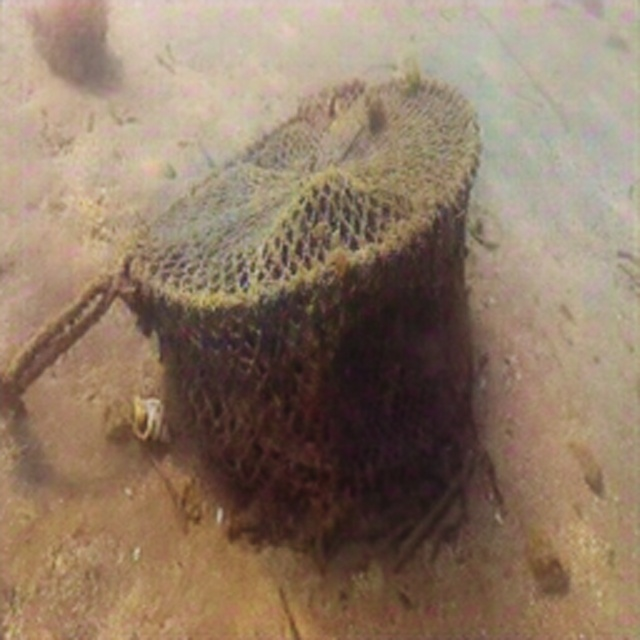mine: (118, 74, 481, 517)
